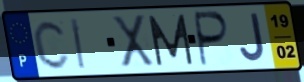C: (32, 18, 73, 71)
I: (68, 17, 87, 71)
J: (238, 11, 268, 64)
M: (146, 13, 196, 68)
P: (193, 9, 232, 68)
X: (110, 13, 157, 70)
